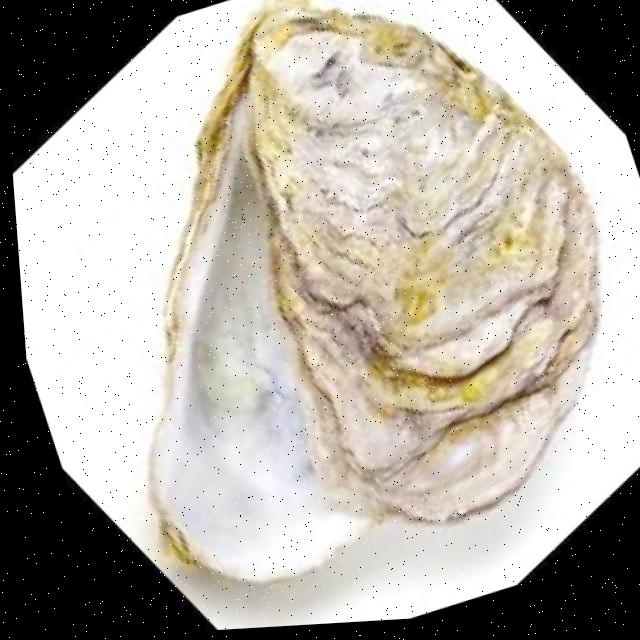Oyster-Open: (4, 0, 640, 621)
